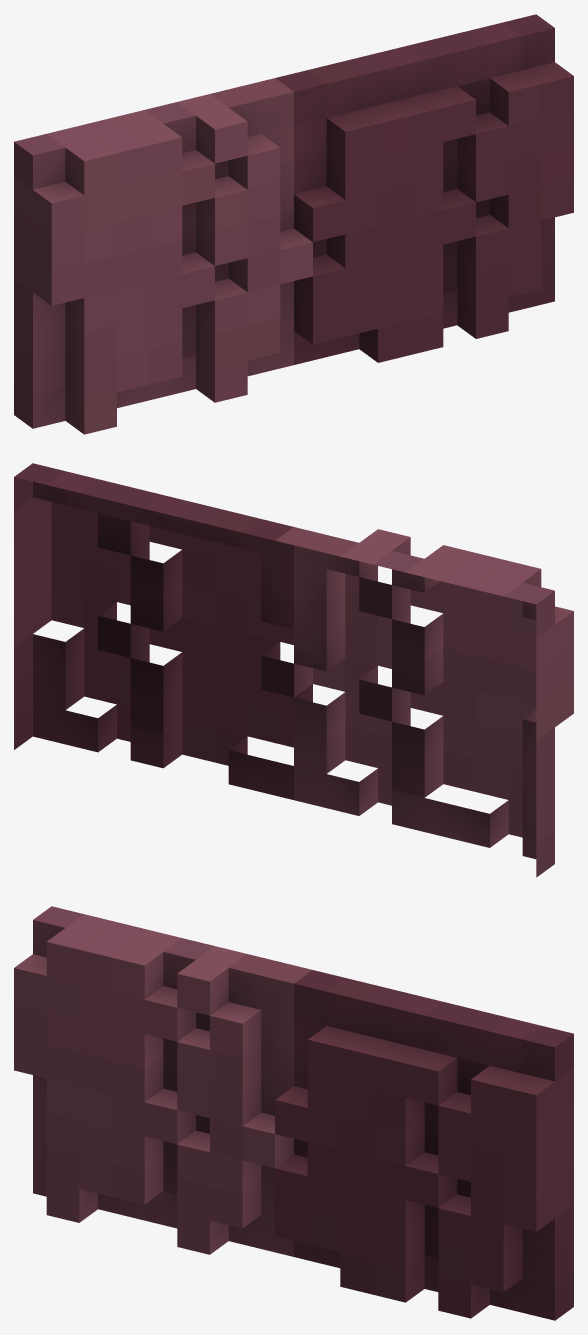
File: ashlar_plain_0.glb
The picture shows the model from 3 angles, top to bottom: view 1: azimuth 30°, elevation 25°; view 2: azimuth 150°, elevation 25°; view 3: azimuth 330°, elevation 25°; orthographic projection.
Visible parts, largest first — view 1: ashlar_plain_0; view 2: ashlar_plain_0; view 3: ashlar_plain_0.
Part boxes in pixels (x1,y1,x2,y2): ashlar_plain_0: (14, 14, 573, 434); ashlar_plain_0: (14, 463, 573, 877); ashlar_plain_0: (14, 906, 573, 1320).
Size of the model in its own units: 1 by 0.5 by 0.125.
